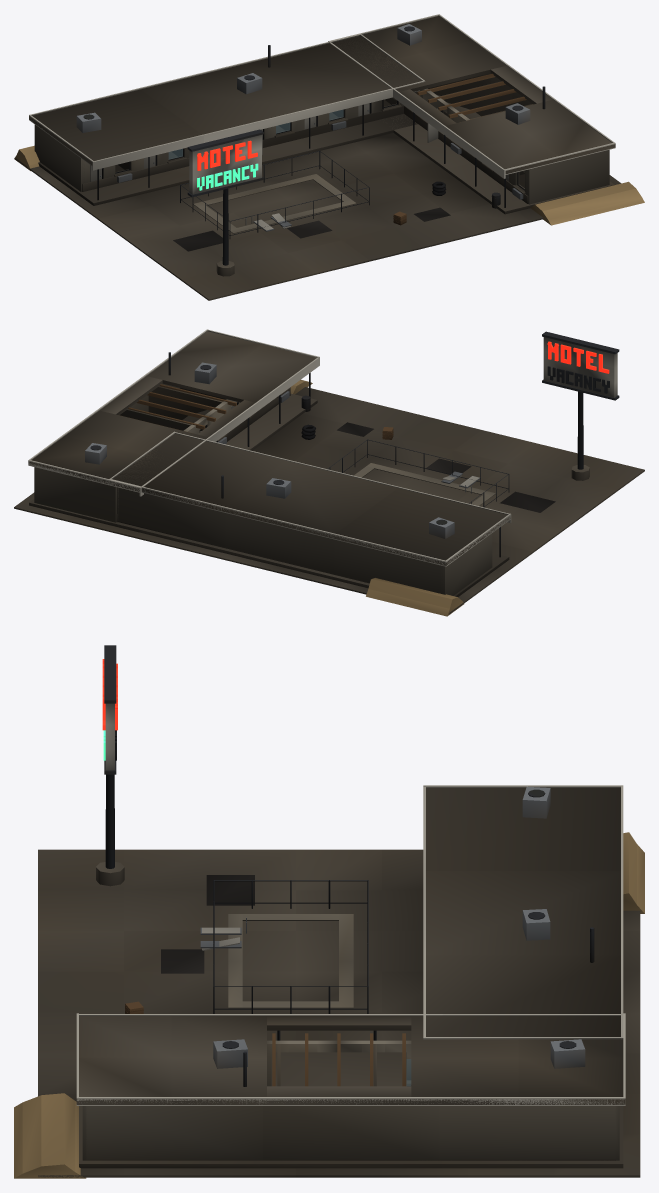
The model's file is motel.glb.
3 views of the same model, one above another, from view 1: azimuth 30°, elevation 25°; view 2: azimuth 150°, elevation 25°; view 3: azimuth 270°, elevation 25° (orthographic). The views are drawn at different scales.
Visible parts, largest first — view 1: concrete_dark, concrete, paint2, metal_dark, paint, sand, metal_bare, wood, asphalt, light_tail, light_green; view 2: concrete_dark, concrete, paint2, metal_dark, paint, sand, metal_bare, asphalt, wood, light_tail; view 3: concrete_dark, concrete, paint2, sand, metal_dark, metal_bare, asphalt, wood.
Boxes of the visible parts, x1,y1,x2,y2 form: concrete_dark: (15, 16, 621, 300); concrete: (34, 73, 609, 233); paint2: (29, 14, 615, 230); metal_dark: (83, 26, 545, 265); paint: (90, 92, 508, 194); sand: (14, 145, 644, 225); metal_bare: (76, 24, 530, 231); wood: (393, 73, 527, 225); asphalt: (173, 207, 450, 251); light_tail: (197, 140, 257, 170); light_green: (197, 163, 258, 190); concrete_dark: (14, 331, 644, 614); concrete: (34, 383, 495, 595); paint2: (28, 329, 511, 566); metal_dark: (90, 331, 619, 557); paint: (200, 337, 617, 431); sand: (290, 380, 463, 616); metal_bare: (85, 362, 480, 538); asphalt: (337, 422, 555, 512); wood: (121, 384, 393, 439); light_tail: (547, 341, 609, 373); concrete_dark: (38, 788, 640, 1177); concrete: (82, 914, 619, 1160); paint2: (76, 785, 625, 1105); sand: (14, 832, 644, 1178); metal_dark: (104, 645, 594, 1086); metal_bare: (200, 786, 585, 1068); asphalt: (161, 875, 254, 973); wood: (125, 1001, 405, 1086).
Size of what is drawn, in the model's own units: 32 by 11.4 by 26.2.
